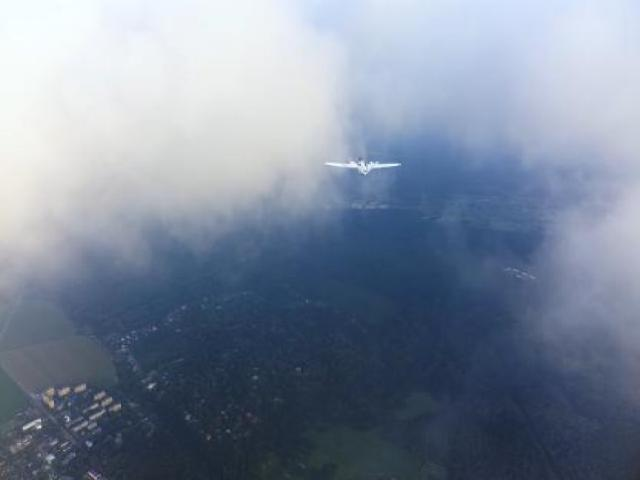uav: (324, 156, 402, 177)
